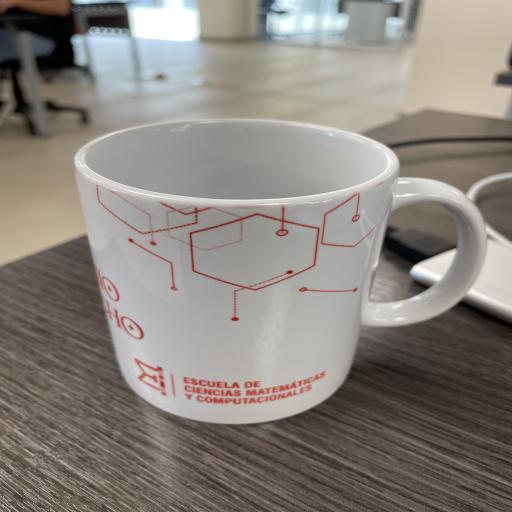cup: (73, 113, 485, 425)
